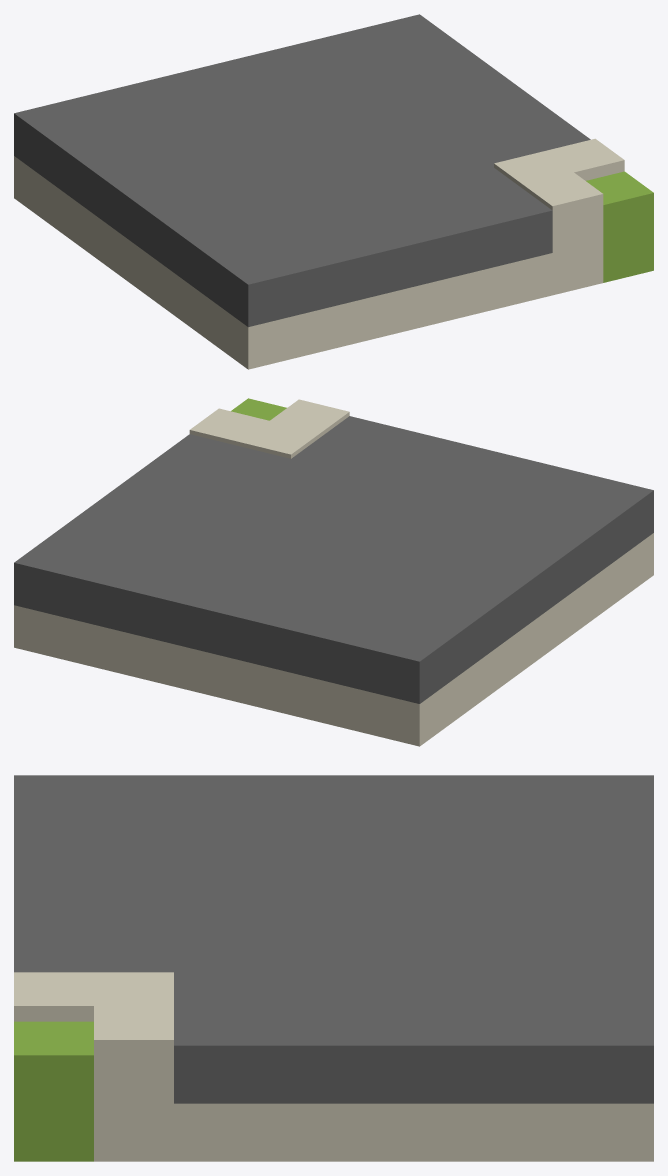
Rendered from tile175.fbx.
The picture shows the model from 3 angles, top to bottom: view 1: azimuth 30°, elevation 25°; view 2: azimuth 150°, elevation 25°; view 3: azimuth 270°, elevation 25°; orthographic projection. The views are drawn at different scales.
Visible parts, largest first — view 1: tile175; view 2: tile175; view 3: tile175.
Boxes of the visible parts, x1=… form: tile175: x1=14, y1=14, x2=653, y2=369; tile175: x1=14, y1=398, x2=653, y2=746; tile175: x1=14, y1=775, x2=653, y2=1161.
Size of the model in its own units: 10 by 2.1 by 10.
